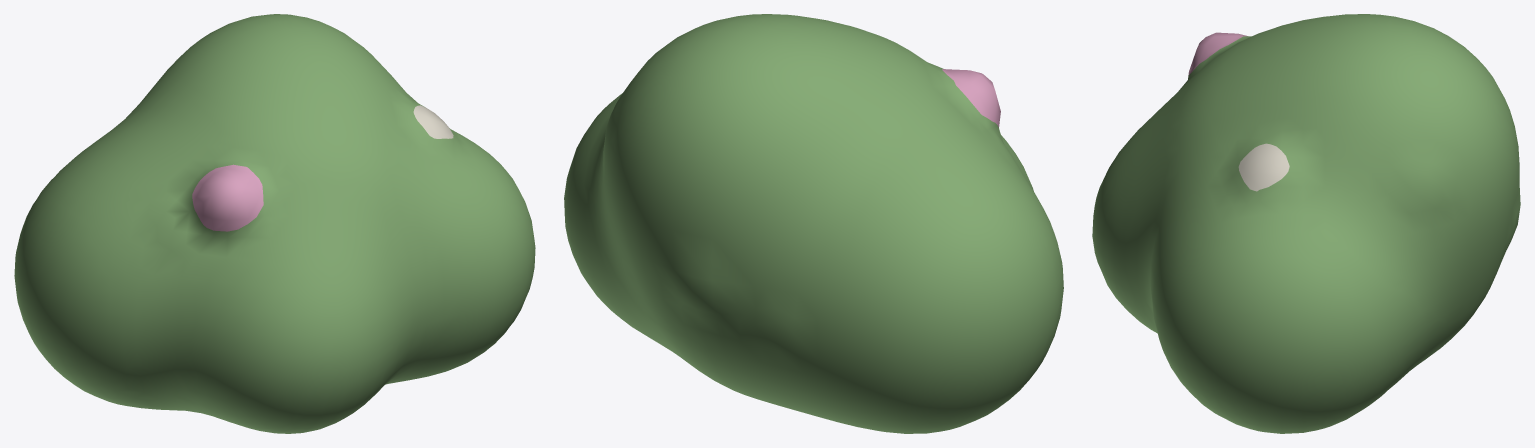
File: flowers.glb
3 views of the same model, side by side, from view 1: azimuth 30°, elevation 25°; view 2: azimuth 150°, elevation 25°; view 3: azimuth 270°, elevation 25° (orthographic). The views are drawn at different scales.
Visible parts, largest first — view 1: flowers; view 2: flowers; view 3: flowers.
Part boxes in pixels (x1,y1,x2,y2): flowers: (14, 14, 535, 433); flowers: (564, 14, 1063, 433); flowers: (1092, 14, 1520, 433).
Size of the model in its own units: 53.93 by 38.31 by 41.94.
